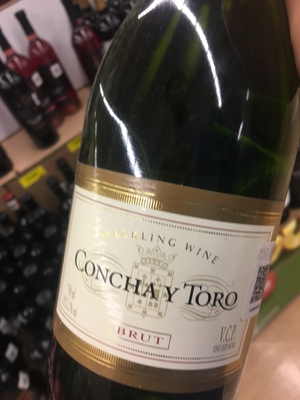brut: (53, 42, 290, 391)
